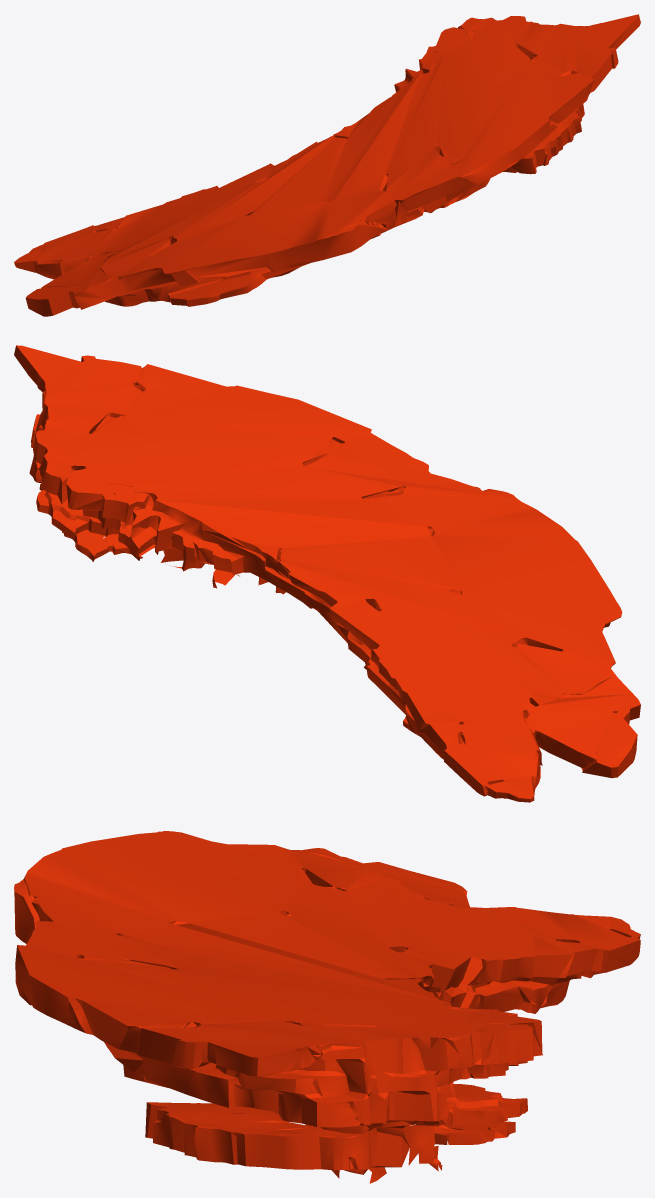
Rendered from canyon_rock_wall_10.fbx.
3 views of the same model, one above another, from view 1: azimuth 30°, elevation 25°; view 2: azimuth 150°, elevation 25°; view 3: azimuth 270°, elevation 25° (orthographic). The views are drawn at different scales.
Visible parts, largest first — view 1: Circle.061_cell.001; view 2: Circle.061_cell.001; view 3: Circle.061_cell.001.
Part boxes in pixels (x1=…): Circle.061_cell.001: x1=14, y1=14, x2=640, y2=316; Circle.061_cell.001: x1=14, y1=345, x2=640, y2=802; Circle.061_cell.001: x1=14, y1=831, x2=640, y2=1183.
Size of the model in its own units: 1167 by 383 by 582.
